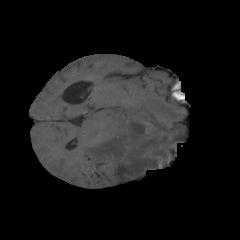glioma: (85, 92, 187, 180)
